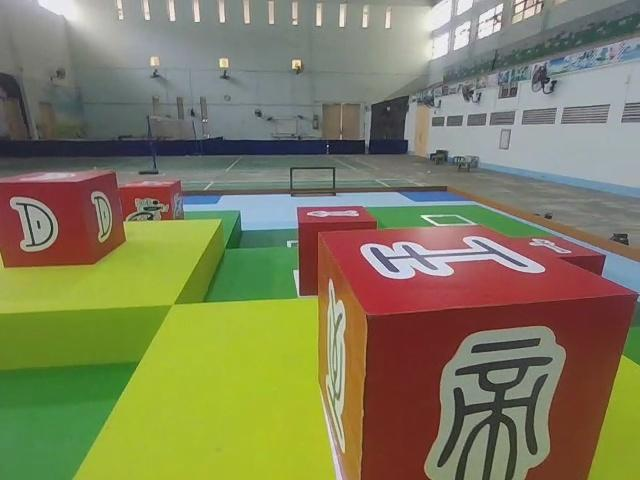R1: (118, 176, 185, 233)
R2 Fake: (315, 222, 639, 480)
R2 Real: (0, 167, 128, 271)
